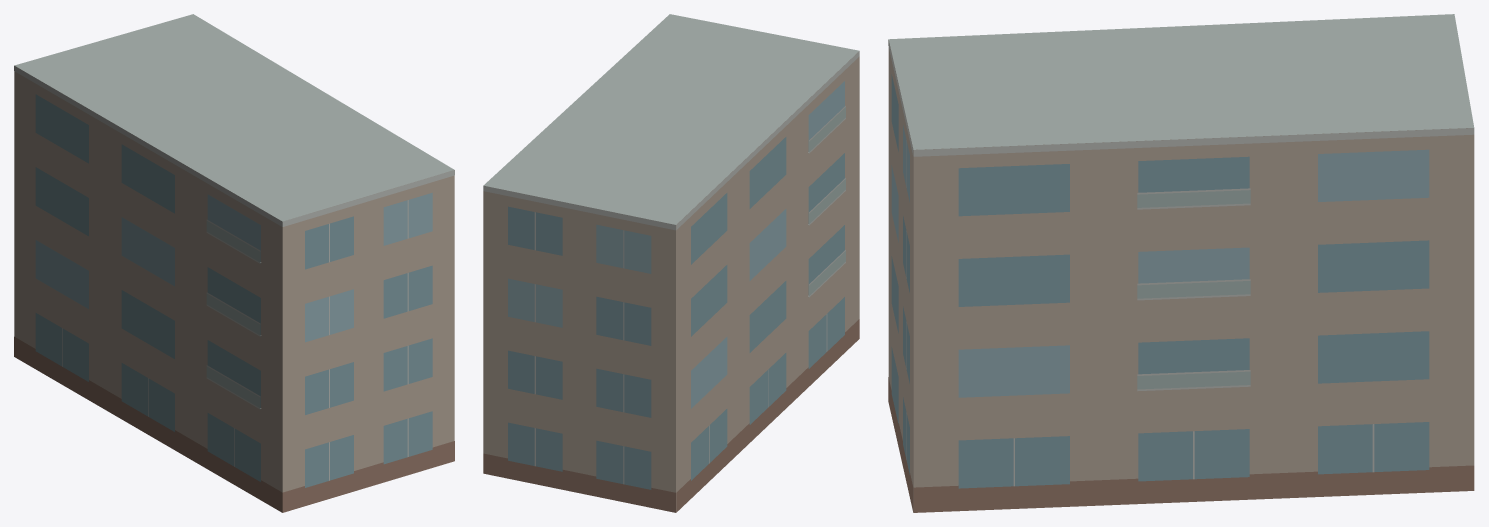
File: survey-upis-33046360.glb
3 views of the same model, side by side, from view 1: azimuth 30°, elevation 25°; view 2: azimuth 150°, elevation 25°; view 3: azimuth 270°, elevation 25° (orthographic). The views are drawn at different scales.
Parts seen in each view (by area): view 1: survey-upis-33046360.tmp; view 2: survey-upis-33046360.tmp; view 3: survey-upis-33046360.tmp.
Part boxes in pixels (left/top/right/bottom): survey-upis-33046360.tmp: left=14, top=14, right=454, bottom=512; survey-upis-33046360.tmp: left=483, top=14, right=859, bottom=512; survey-upis-33046360.tmp: left=888, top=14, right=1474, bottom=512.
Bounding box in the file's own units: 10.25 × 12.75 × 18.66.
